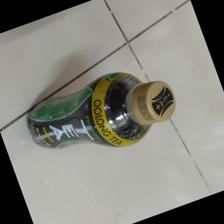Olong: (27, 67, 178, 151)
